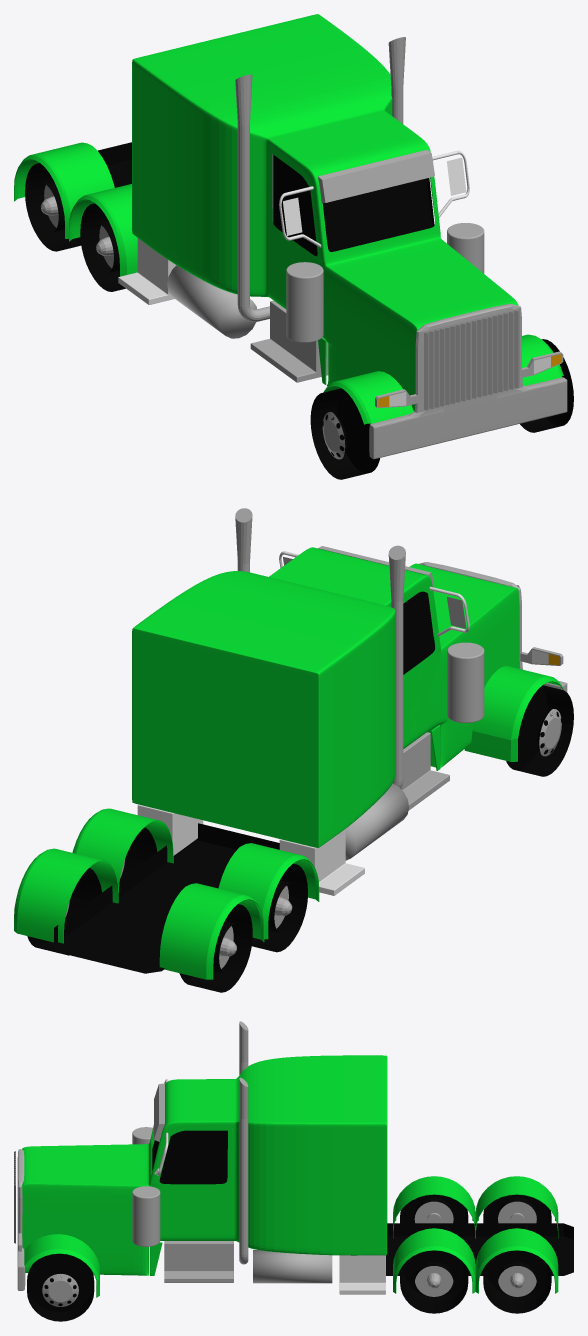
Rendered from Carreta.fbx.
3 renders of one model, top to bottom at view 1: azimuth 30°, elevation 25°; view 2: azimuth 150°, elevation 25°; view 3: azimuth 270°, elevation 25°, orthographic. The views are drawn at different scales.
Visible parts, largest first — view 1: Cube, Plane, Plane.004, Circle.001, Circle.002, Plane.008, Circle.003, Cylinder, Plane.006, Plane.002, Circle, Cylinder.001 (+6 smaller); view 2: Cube, Circle.001, Plane.001, Circle.003, Circle, Circle.002, Cube.002, Cylinder, Plane.006, Cylinder.001, Cube.001, Plane.007 (+3 smaller); view 3: Cube, Circle.003, Circle.001, Circle.002, Plane.001, Plane.007, Cube.001, Cylinder.001, Cylinder, Plane.006, Cube.002, Circle (+2 smaller).
Boxes of the visible parts, <box> form: Cube: <box>132,14,518,411</box>; Plane: <box>369,303,567,459</box>; Plane.004: <box>424,310,519,410</box>; Circle.001: <box>14,142,137,276</box>; Circle.002: <box>310,339,573,479</box>; Plane.008: <box>323,178,432,251</box>; Circle.003: <box>25,163,125,291</box>; Cylinder: <box>235,37,405,321</box>; Plane.006: <box>286,223,484,342</box>; Plane.002: <box>318,149,434,203</box>; Circle: <box>323,334,563,424</box>; Cylinder.001: <box>167,265,256,338</box>; Cube: <box>132,547,519,847</box>; Circle.001: <box>14,808,319,979</box>; Plane.001: <box>54,823,279,973</box>; Circle.003: <box>27,827,307,992</box>; Circle: <box>464,666,563,761</box>; Circle.002: <box>506,685,573,776</box>; Cube.002: <box>137,804,364,895</box>; Cylinder: <box>235,508,405,788</box>; Plane.006: <box>447,642,484,722</box>; Cylinder.001: <box>345,783,408,860</box>; Cube.001: <box>401,732,449,810</box>; Plane.007: <box>403,591,435,674</box>; Cube: <box>21,1055,387,1275</box>; Circle.003: <box>400,1194,551,1313</box>; Circle.001: <box>393,1176,558,1293</box>; Circle.002: <box>27,1253,94,1321</box>; Plane.001: <box>386,1223,573,1275</box>; Plane.007: <box>159,1130,227,1184</box>; Cube.001: <box>164,1241,233,1282</box>; Cylinder.001: <box>253,1250,332,1283</box>; Cylinder: <box>239,1021,248,1264</box>; Plane.006: <box>132,1127,160,1246</box>; Cube.002: <box>339,1255,385,1294</box>; Circle: <box>24,1234,99,1297</box>.
Size of the model in its own units: 364 by 482 by 1060.
